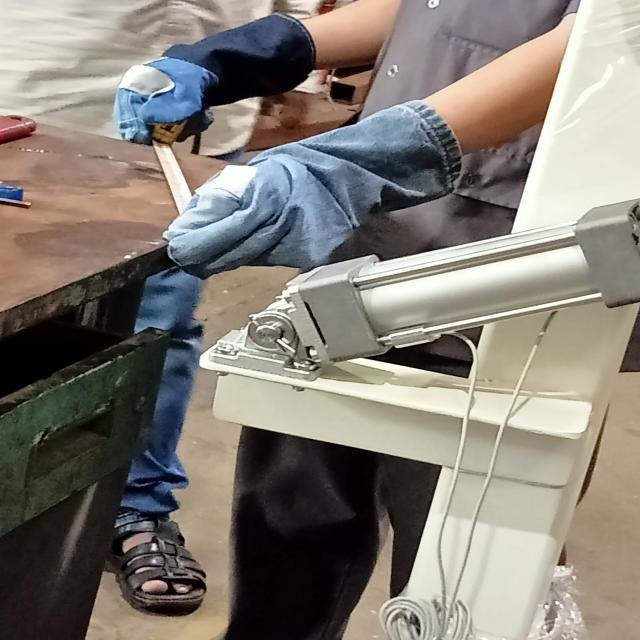Gloves-Detection: (181, 109, 454, 259), (121, 13, 302, 145)
